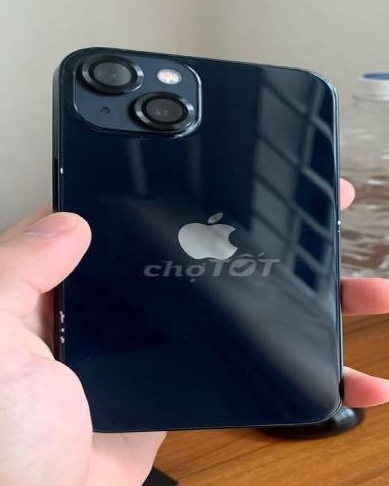physical_damage: (46, 300, 90, 350), (47, 161, 82, 183), (326, 211, 349, 233)
